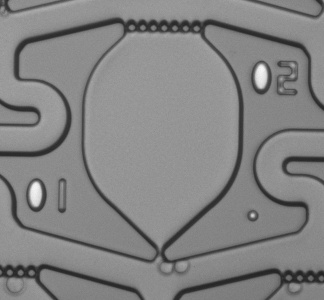AptNum: (246, 53, 304, 100)
Marker: (243, 207, 262, 225)
StNum: (21, 174, 74, 217)
